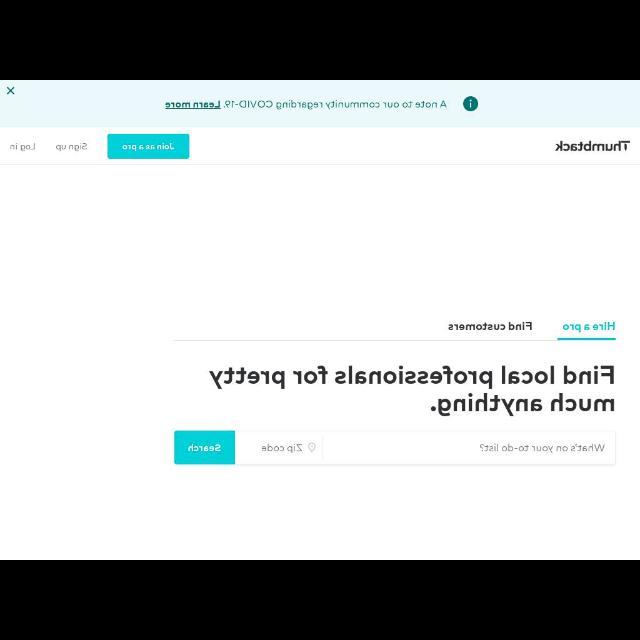icon: (462, 96, 478, 112), (7, 86, 16, 95), (308, 442, 316, 452)
image: (556, 140, 630, 152)
input: (323, 432, 615, 464), (235, 432, 323, 466)
multitab: (447, 322, 615, 334)
panel: (1, 80, 640, 126)
text: (210, 365, 614, 417), (164, 100, 446, 110), (478, 443, 606, 455), (448, 321, 532, 331), (562, 321, 616, 333), (122, 142, 174, 152), (262, 444, 302, 454), (188, 444, 222, 454), (56, 142, 88, 152), (9, 143, 35, 153)
textbutton: (107, 134, 189, 160), (173, 431, 234, 465)
toolbar: (1, 128, 640, 164)
